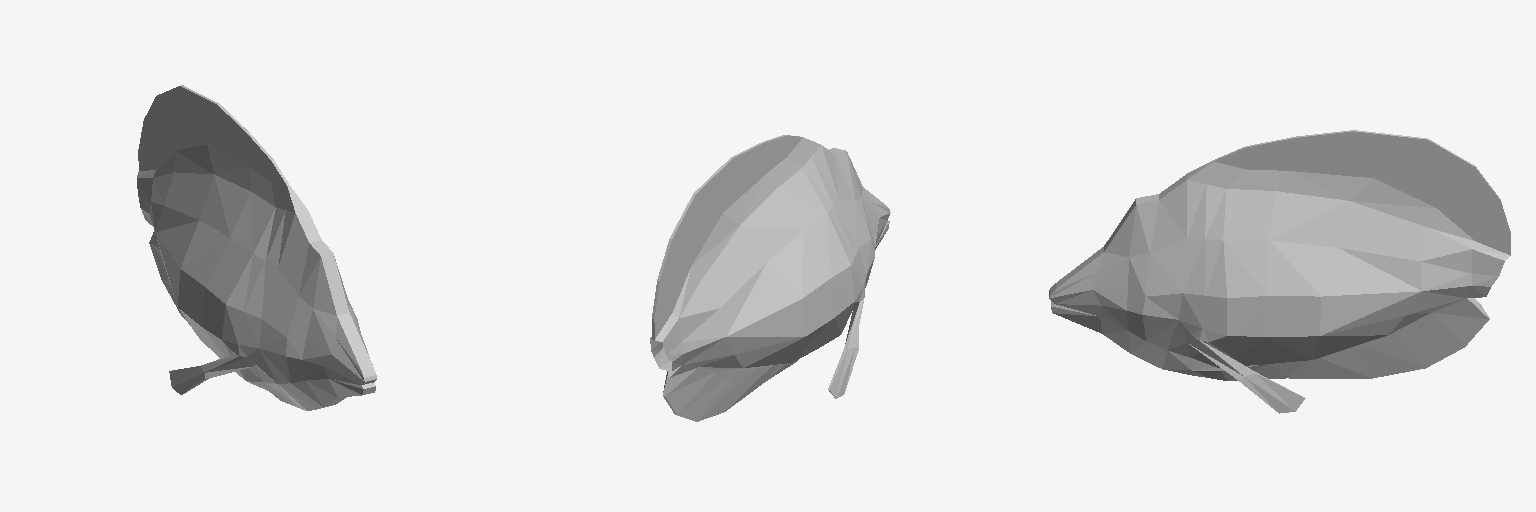
The model's file is PezCu9.obj.
3 renders of one model, left to right at view 1: azimuth 30°, elevation 25°; view 2: azimuth 150°, elevation 25°; view 3: azimuth 270°, elevation 25°, orthographic.
Visible parts, largest first — view 1: polySurface3 polySurface1 TropicalFish08:TropicalFish08; view 2: polySurface3 polySurface1 TropicalFish08:TropicalFish08; view 3: polySurface3 polySurface1 TropicalFish08:TropicalFish08.
Boxes of the visible parts, x1=… form: polySurface3 polySurface1 TropicalFish08:TropicalFish08: x1=137, y1=85, x2=376, y2=410; polySurface3 polySurface1 TropicalFish08:TropicalFish08: x1=650, y1=135, x2=890, y2=421; polySurface3 polySurface1 TropicalFish08:TropicalFish08: x1=1049, y1=130, x2=1510, y2=413.
Bounding box in the file's own units: 3.1 × 4.84 × 8.12.